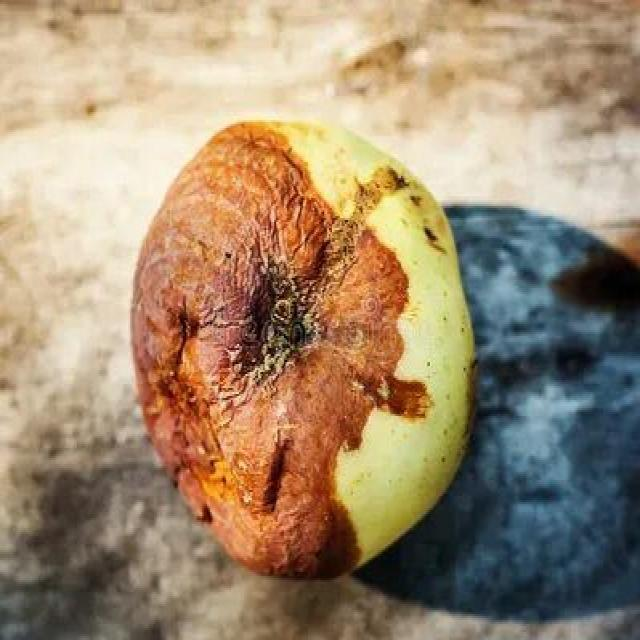Rotten Apple: (129, 121, 468, 583)
